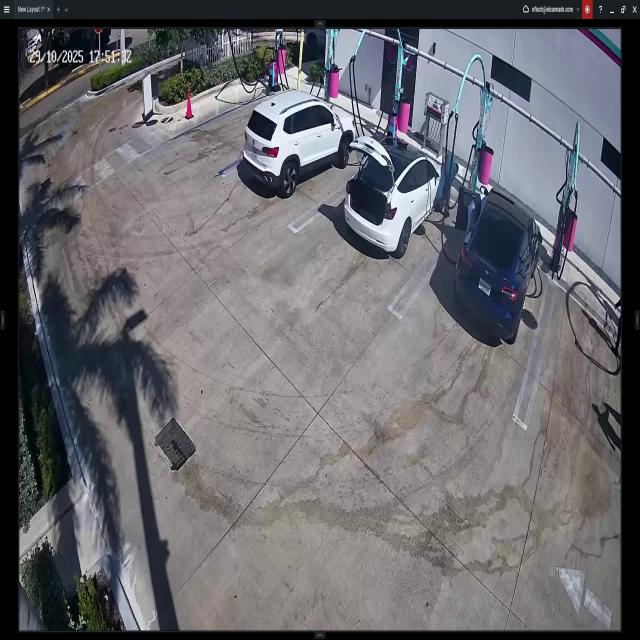Car: (455, 189, 541, 341), (346, 132, 444, 255), (238, 97, 354, 190), (301, 26, 327, 61)
